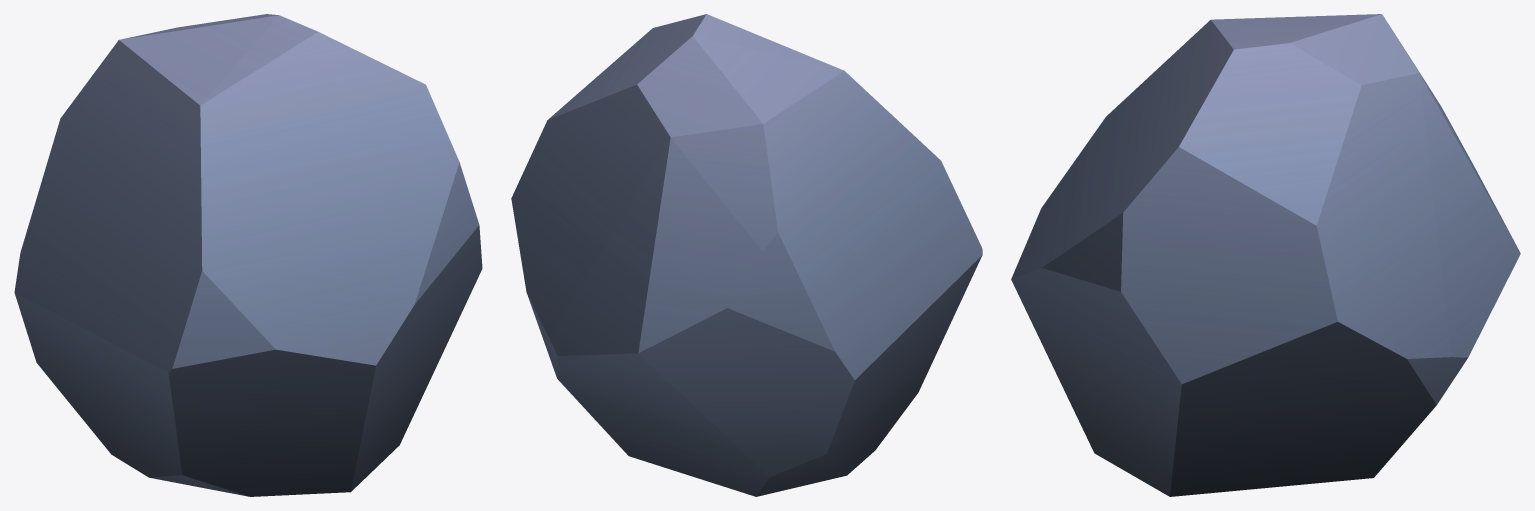
The model's file is Rock_3.fbx.
3 renders of one model, left to right at view 1: azimuth 30°, elevation 25°; view 2: azimuth 150°, elevation 25°; view 3: azimuth 270°, elevation 25°, orthographic. The views are drawn at different scales.
Parts seen in each view (by area): view 1: Rock 3; view 2: Rock 3; view 3: Rock 3.
Boxes of the visible parts, <box> form: Rock 3: <box>14,14,482,496</box>; Rock 3: <box>511,14,982,496</box>; Rock 3: <box>1011,14,1520,496</box>.
Size of the model in its own units: 165 by 169 by 185.
